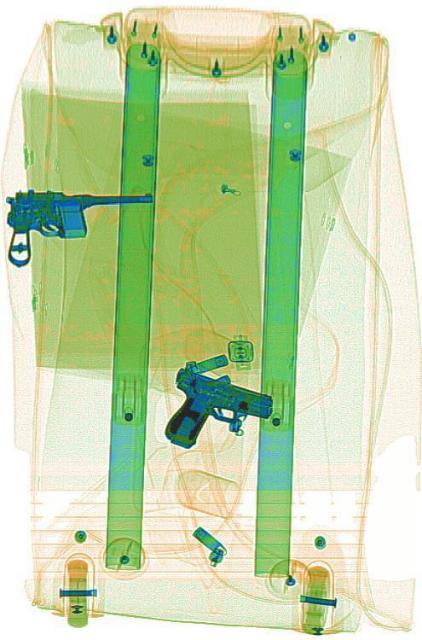Gun: (2, 187, 151, 269), (161, 364, 273, 471)
